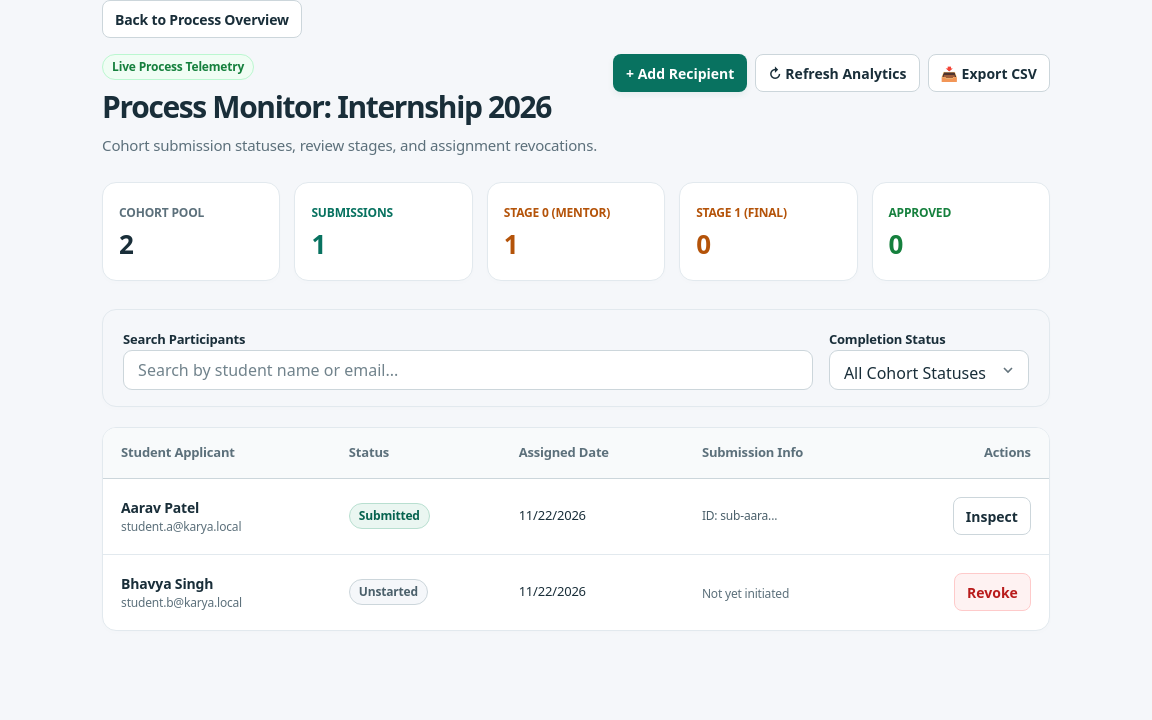
Test: P-008 Process Monitor Page and Elements (T-A11Y-P008, EL-051..EL-058) › filters participants by search query (EL-051)
Type "Bhavya" into the search field with test id "EL-051" at x=468, y=370, box [123,350,813,390]
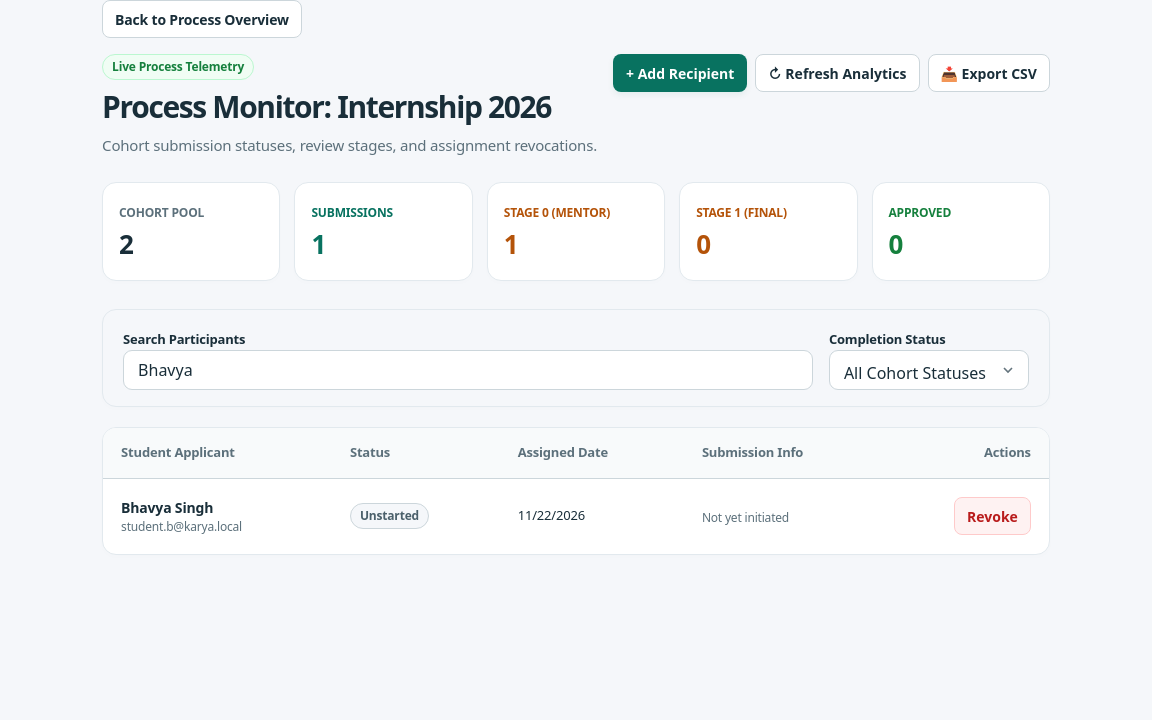
Check: the text "Bhavya Singh" is shown, box [121,498,213,517]
Check: the text "Aarav Patel" is gone
